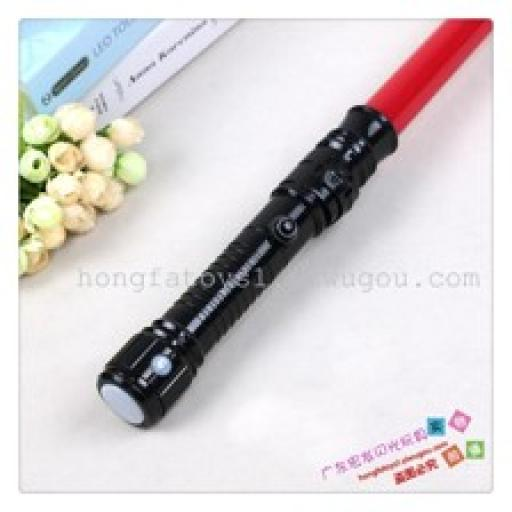lightsaber: (74, 16, 492, 437)
